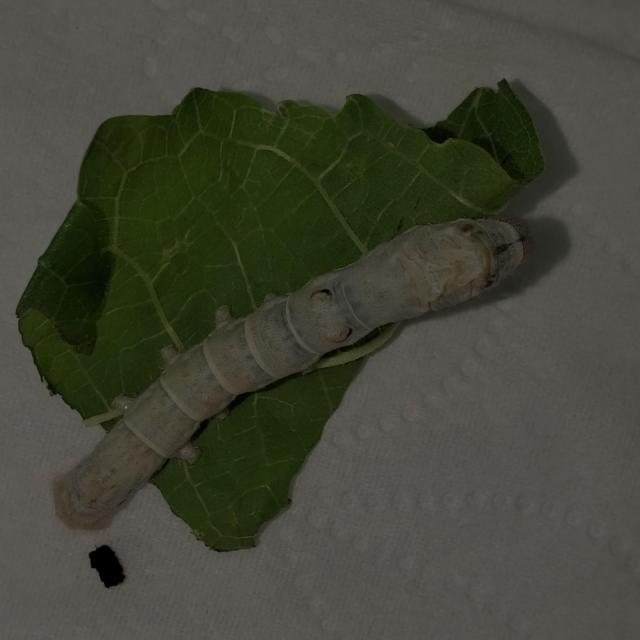Healthy: (38, 200, 570, 547)
